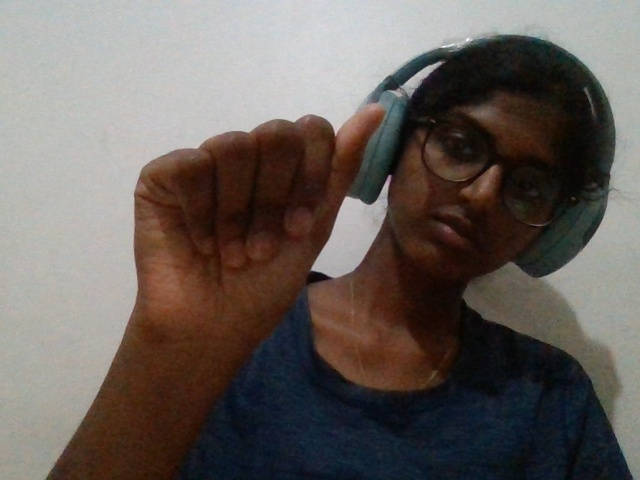A: (89, 91, 397, 422)
